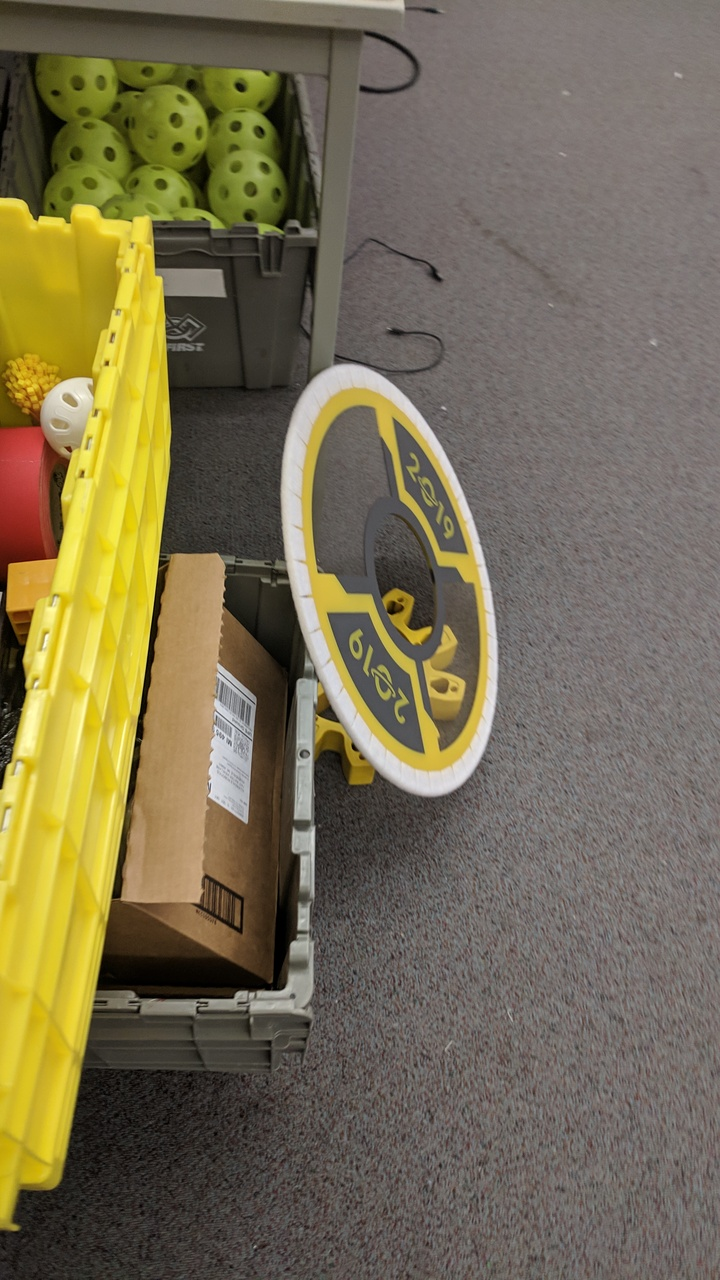hatch_panel: (259, 362, 521, 810)
